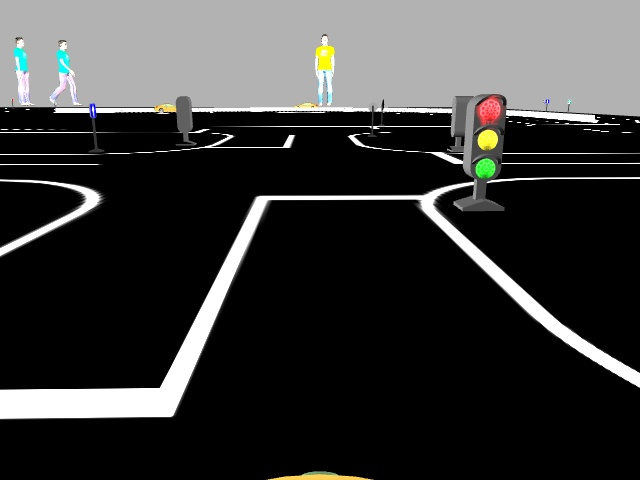TrafficLight: (462, 93, 506, 178)
